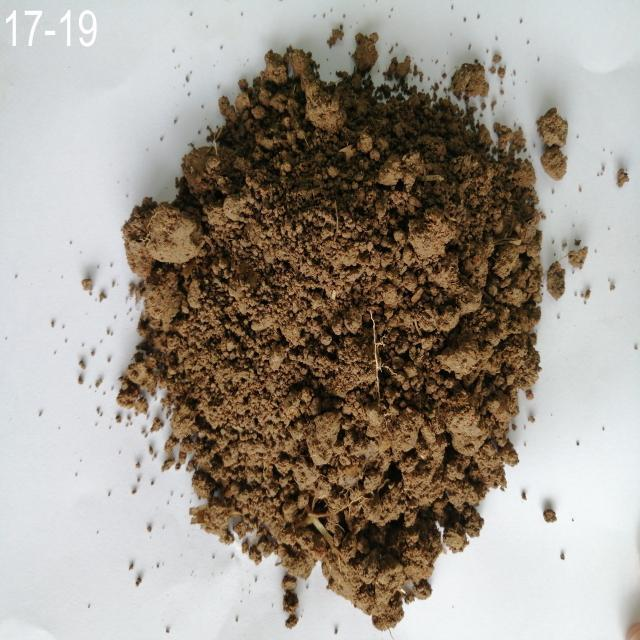soil: (209, 130, 474, 512)
